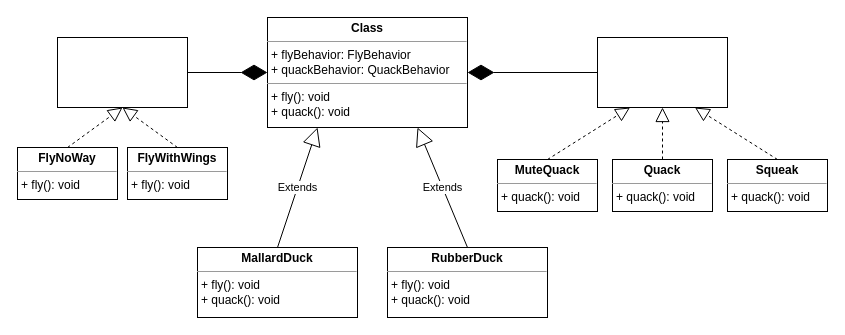
The diagram is 845 pixels wide and 335 high, and some of its shapes have lost their labels. Each missing label, with the centre of its shape:
<<Interface>> FlyBehavior + fly(): void: [122,72]
<<Interface>> QuackBehavior + quack(): void: [662,72]
